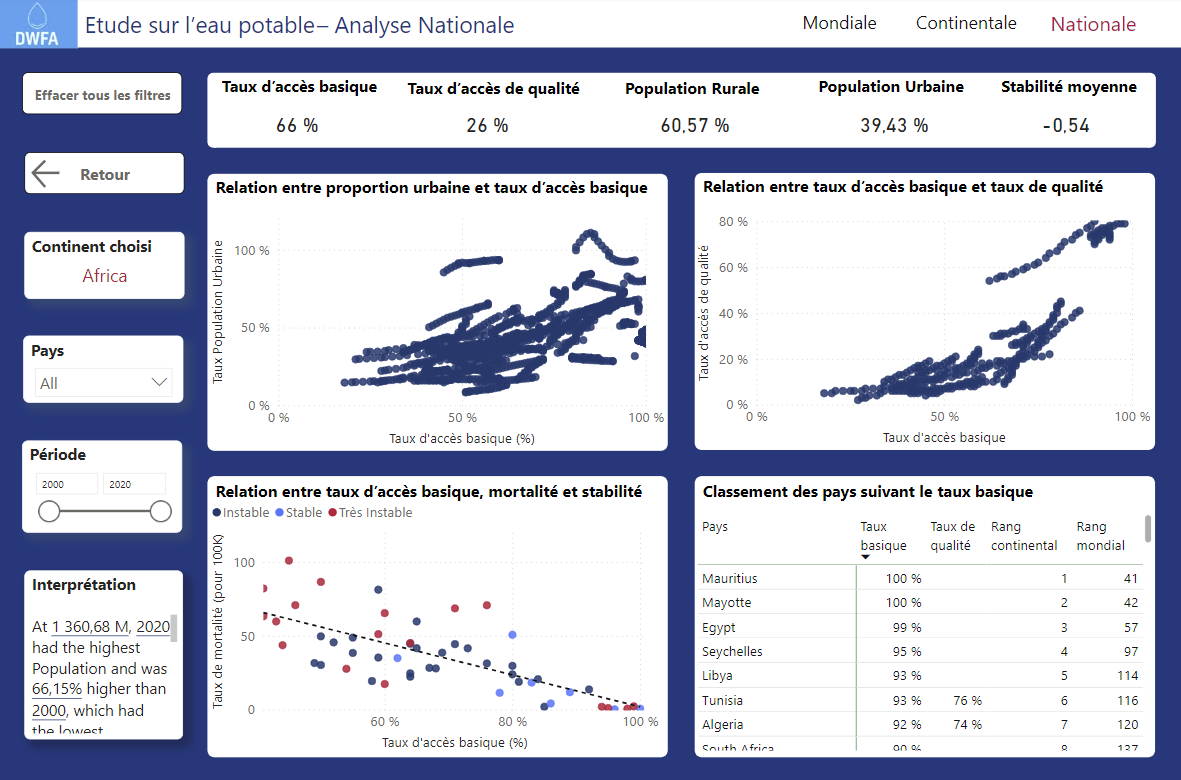

The dashboard page shown, as its layout file describes it:
{"tool":"powerbi","page":{"name":"Nationale","canvas":[1408,930],"ordinal":2},"visuals":[{"type":"scatterChart","fields":{"X":["Data_Zone.Taux d'accès basique total (%)"],"Y":["Data_Zone.Proportion Population (%)"]},"box":[250,250,549,290],"z":0},{"type":"scatterChart","fields":{"X":["Sum(Data_Total.Taux d'accès basique (%))"],"Y":["Sum(Data_Total.Taux d'accès de qualité (%))"]},"box":[826.9,249.6,549.5,289.5],"z":1000},{"type":"card","fields":{"Values":["Data_Total.Avg Taux d'accès basique (%)"]},"box":[296.9,125.8,119.6,49.5],"z":2000},{"type":"card","fields":{"Values":["Data_Total.Avg Taux d'accès de qualité (%)"]},"box":[523.7,125.8,119.6,49.5],"z":3000},{"type":"actionButton","box":[32,184.3,190,50],"z":4000},{"type":"actionButton","box":[30,90,190,50],"z":5000},{"type":"textbox","title":"Interprétation","box":[32.9,681.3,189,201.1],"z":6000},{"type":"card","fields":{"Values":["Data_Zone.% Population Rurale"]},"box":[769.1,125.8,119.6,49.5],"z":7000},{"type":"card","fields":{"Values":["Data_Zone.% Population Urbaine"]},"box":[1006.2,125.8,119.6,49.5],"z":8000},{"type":"card","fields":{"Values":["Data_Total.Avg Stabilité"]},"box":[1210.4,125.8,119.6,49.5],"z":9000},{"type":"pageNavigator","box":[931,0,445,60],"z":10000},{"type":"slicer","title":"Pays","fields":{"Values":["Dim_Pays.Pays"]},"box":[31.2,402.9,190.7,79.7],"z":11000},{"type":"scatterChart","title":"Mortalité/taux/stabilite","fields":{"Series":["Dim_Stabilite.Classement Stabilité"],"X":["Data_2016.Taux d'accès basique (%)"],"Y":["Data_2016.Taux de mortalité (pour 100K)"]},"box":[249.6,591.1,549.5,310.3],"z":12000},{"type":"pivotTable","title":"Total Décès 2016","fields":{"Rows":["Dim_Pays.Pays"],"Values":["Data_Total.Avg Taux d'accès basique (%)","Data_Total.Avg Taux d'accès de qualité (%)","Data_Total.Rang continental (taux basique)","Data_Total.Rang mondial (taux basique)"]},"box":[828.6,610.2,549.5,291.2],"z":13000},{"type":"card","title":"Continent choisi","fields":{"Values":["Min(Dim_Pays.Continent)"]},"box":[32,278.6,190,80],"z":14000},{"type":"slicer","title":"Période","fields":{"Values":["Dim_Calendrier.Année"]},"box":[30,527,190,110],"z":15000}]}

Visuals, with their boxes in screenshot pixels (x1, y1, x2, y2), scaled from the page's 1408x930 canvas onto the 1181x780 screenshot:
scatterChart - Data_Zone.Taux d'accès basique total (%) x Data_Zone.Proportion Population (%): left=210, top=210, right=670, bottom=453
scatterChart - Sum(Data_Total.Taux d'accès basique (%)) x Sum(Data_Total.Taux d'accès de qualité (%)): left=694, top=209, right=1154, bottom=452
card - Data_Total.Avg Taux d'accès basique (%): left=249, top=106, right=349, bottom=147
card - Data_Total.Avg Taux d'accès de qualité (%): left=439, top=106, right=540, bottom=147
actionButton: left=27, top=155, right=186, bottom=197
actionButton: left=25, top=75, right=185, bottom=117
"Interprétation" textbox: left=28, top=571, right=186, bottom=740
card - Data_Zone.% Population Rurale: left=645, top=106, right=745, bottom=147
card - Data_Zone.% Population Urbaine: left=844, top=106, right=944, bottom=147
card - Data_Total.Avg Stabilité: left=1015, top=106, right=1116, bottom=147
pageNavigator: left=781, top=0, right=1154, bottom=50
"Pays" slicer: left=26, top=338, right=186, bottom=405
"Mortalité/taux/stabilite" scatterChart: left=209, top=496, right=670, bottom=756
"Total Décès 2016" pivotTable: left=695, top=512, right=1156, bottom=756
"Continent choisi" card: left=27, top=234, right=186, bottom=301
"Période" slicer: left=25, top=442, right=185, bottom=534
